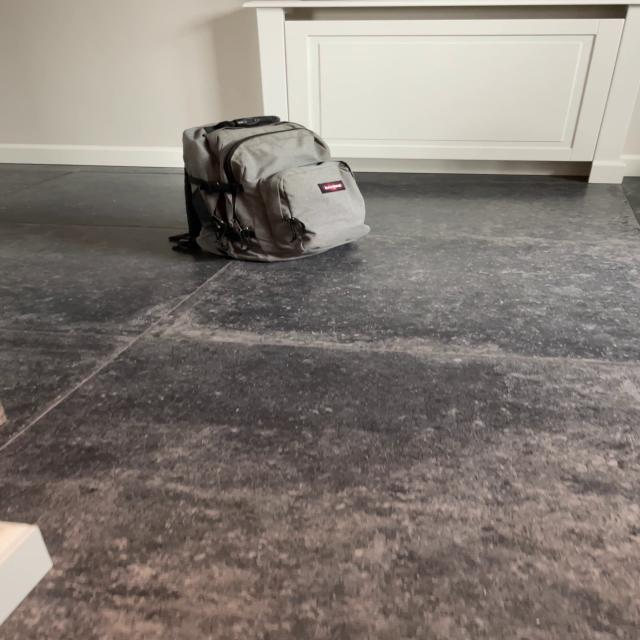backpack: (168, 110, 378, 267)
